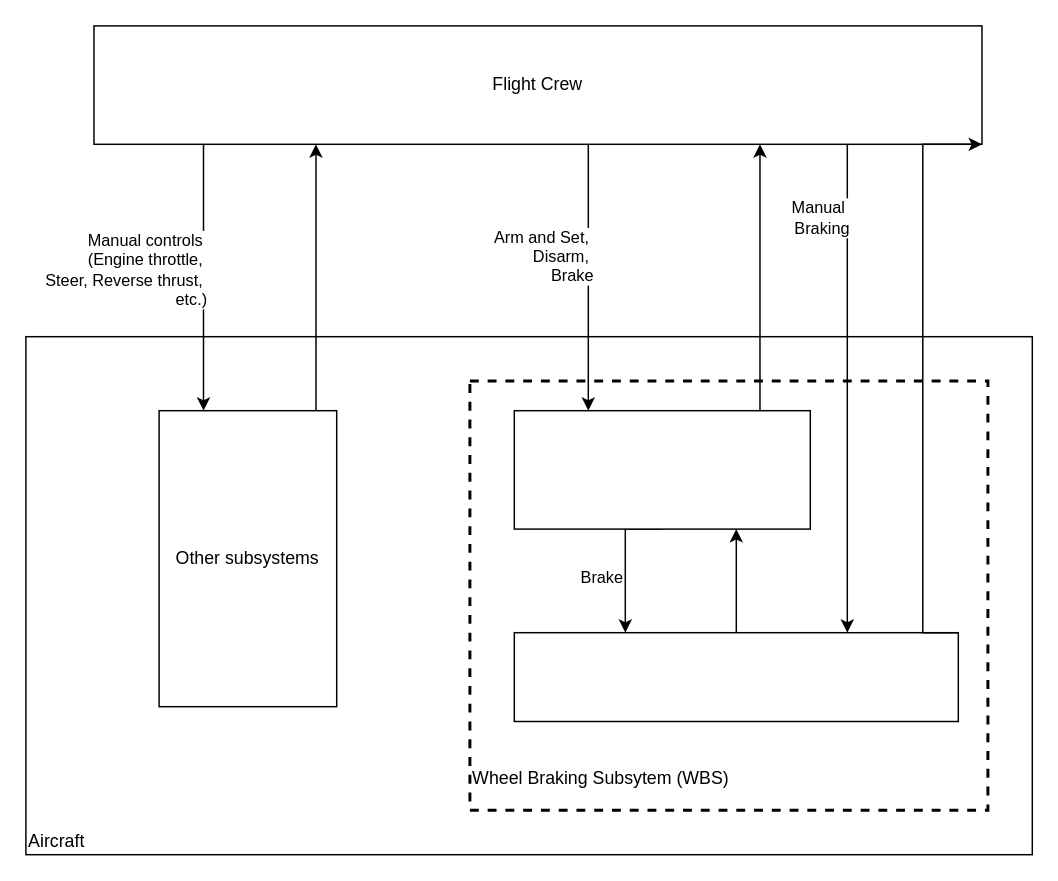
This 1058x881 diagram has some shape labels left out. Each missing label, with the centre of its shape:
Brake System Control Unit (BSCU): [661,469]
Physical Wheel Brakes: [735,676]
